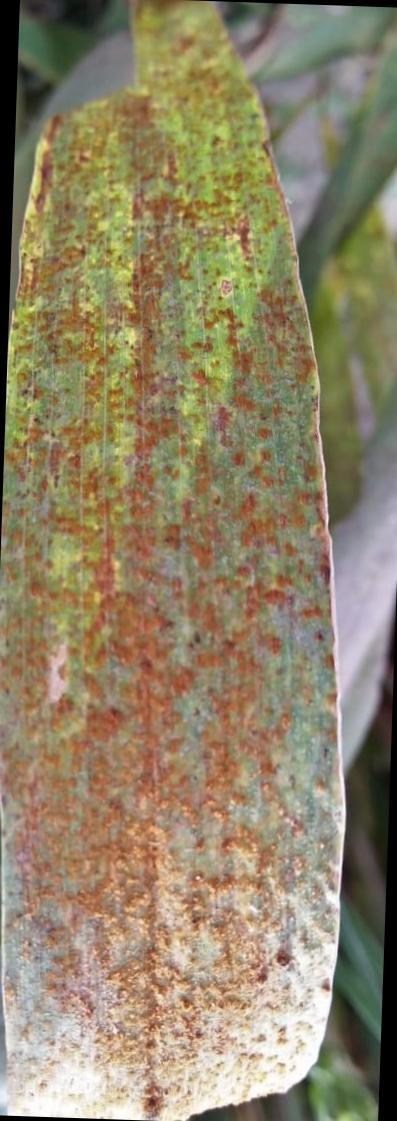Wheat: (17, 344, 309, 1090), (52, 137, 265, 333)
